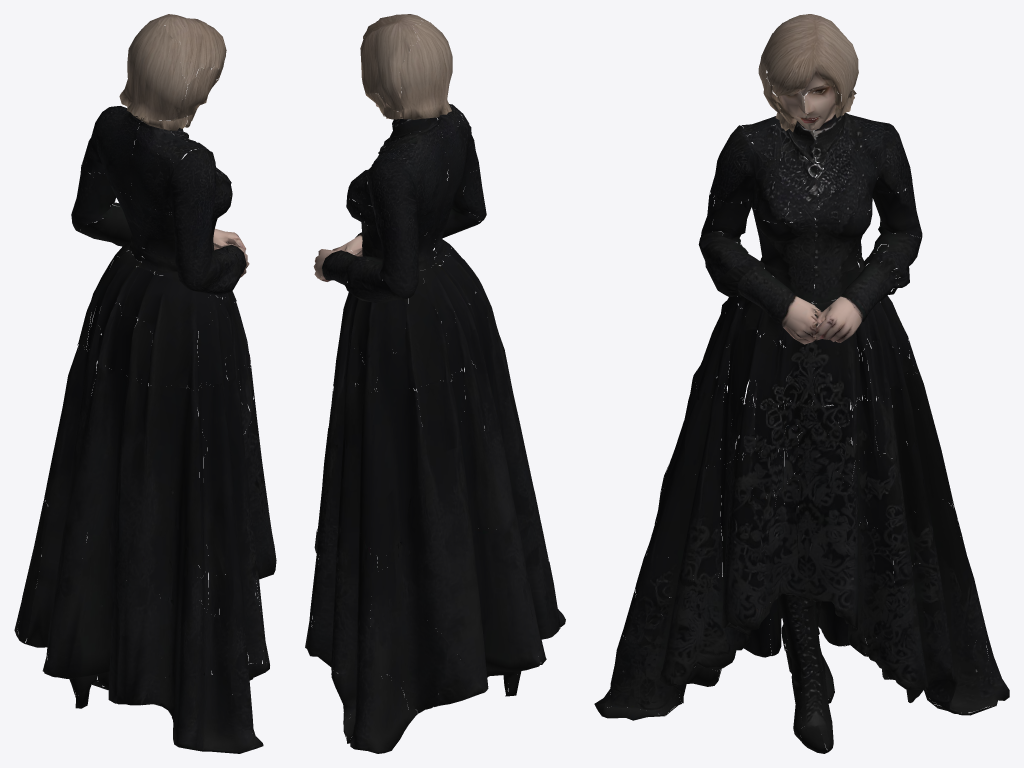
The model's file is cortana_completa.glb.
The picture shows the model from 3 angles, left to right: view 1: azimuth 30°, elevation 25°; view 2: azimuth 150°, elevation 25°; view 3: azimuth 270°, elevation 25°; orthographic projection. The views are drawn at different scales.
Visible parts, largest first — view 1: Cortana; view 2: Cortana; view 3: Cortana.
Boxes of the visible parts, left/top/right/bottom form: Cortana: left=14, top=14, right=276, bottom=753; Cortana: left=305, top=14, right=565, bottom=753; Cortana: left=594, top=14, right=1009, bottom=753.
Size of the model in its own units: 0.5864 by 1.75 by 0.9306.
Materials: 1 (1 with a texture image).
